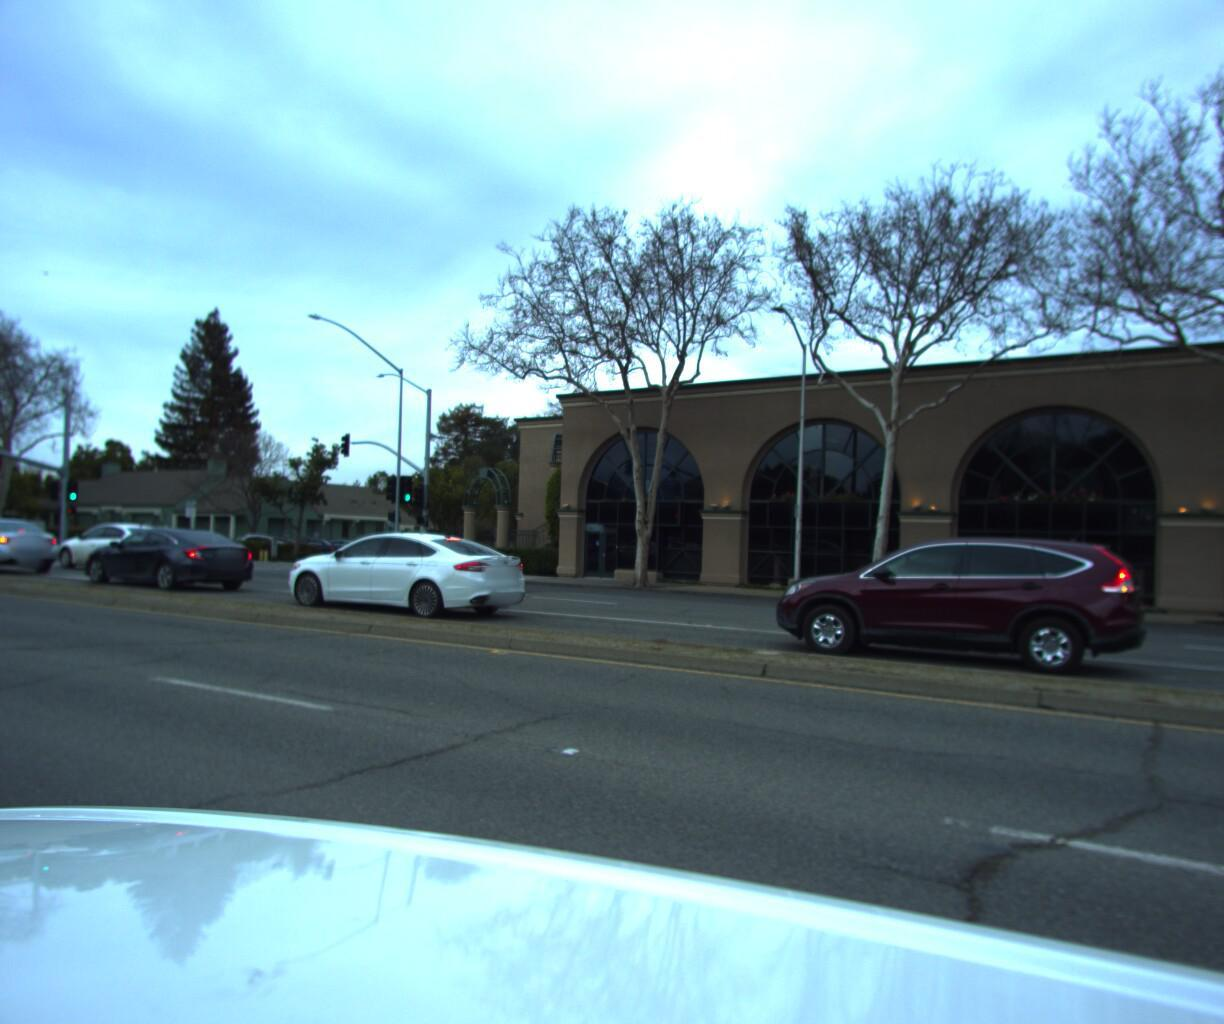car: (752, 523, 1153, 680), (263, 521, 538, 617), (63, 518, 264, 587), (51, 517, 193, 570), (0, 509, 67, 568), (204, 526, 282, 550)
